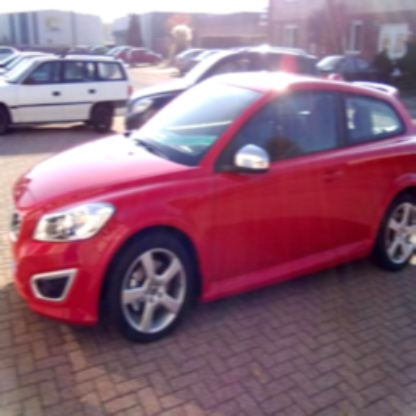Vehicle: (12, 72, 416, 346)
